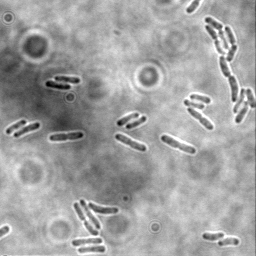Dividing: (73, 201, 100, 237), (160, 133, 197, 156), (114, 132, 147, 153), (187, 107, 215, 131), (47, 130, 85, 143), (71, 236, 104, 246)
Microcolony: (204, 15, 255, 124)
Rod: (79, 198, 103, 230), (13, 121, 41, 139), (87, 201, 120, 216), (4, 119, 28, 136), (115, 111, 140, 127), (125, 115, 148, 131), (44, 79, 72, 91), (77, 245, 107, 255), (183, 98, 207, 110), (54, 75, 82, 85), (202, 231, 225, 242), (189, 93, 212, 104), (218, 236, 240, 247)
